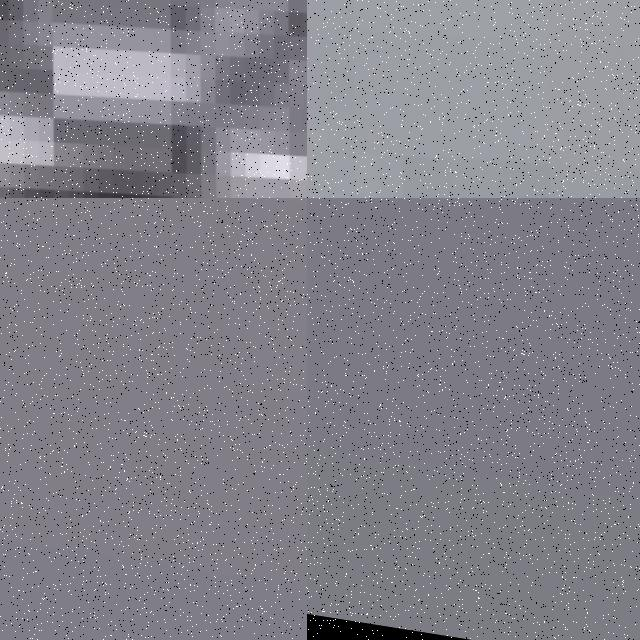drone: (307, 0, 640, 198), (0, 0, 307, 198)
